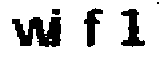1: (117, 7, 148, 51)
f: (81, 6, 109, 52)
i: (51, 2, 71, 52)
w: (5, 16, 52, 51)
